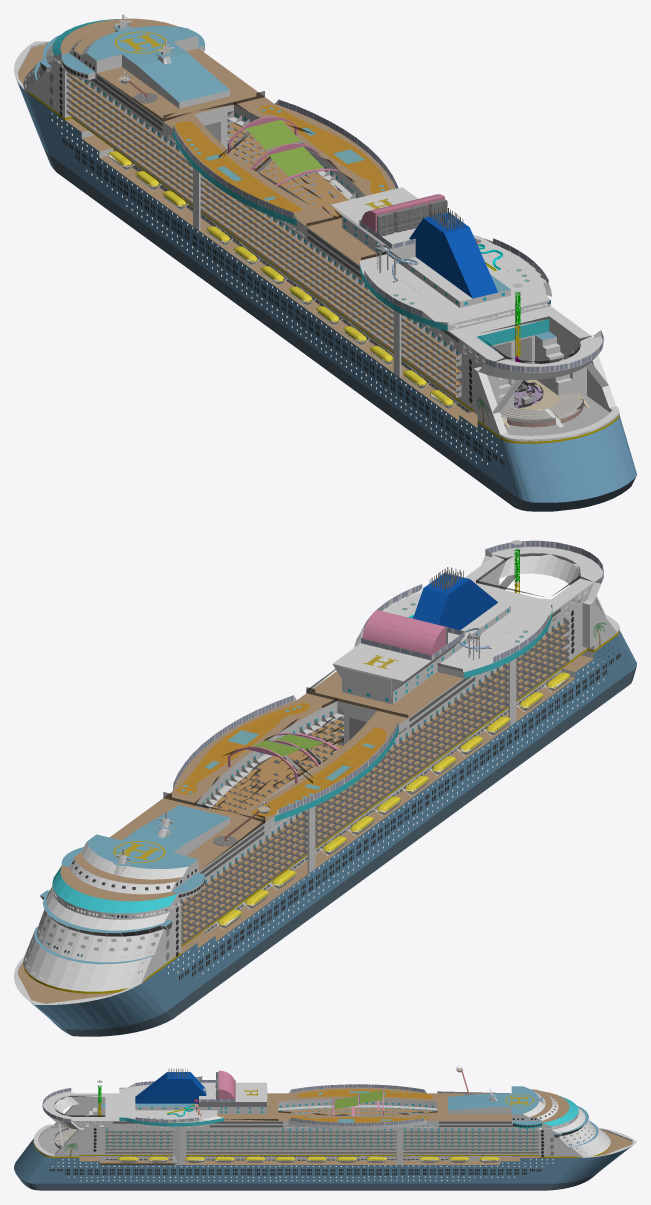
File: cruise_ship.glb
3 views of the same model, one above another, from view 1: azimuth 30°, elevation 25°; view 2: azimuth 150°, elevation 25°; view 3: azimuth 270°, elevation 25° (orthographic). The views are drawn at different scales.
Visible parts, largest first — view 1: hull7, hull3, hull6, hull5, hull2, hull1, hull4, glass, hull0; view 2: hull5, hull3, hull4, hull0, hull1, hull2, hull6, glass, hull7; view 3: hull5, hull3, hull4, hull2, hull6, glass, hull1, hull7, hull0.
Part boxes in pixels (x1,y1,x2,y2): hull7: (444, 312, 636, 511); hull3: (49, 107, 514, 495); hull6: (316, 219, 578, 494); hull5: (63, 139, 535, 506); hull2: (51, 49, 309, 250); hull1: (35, 14, 219, 209); hull4: (101, 139, 481, 470); glass: (66, 23, 592, 422); hull0: (14, 18, 138, 162); hull5: (180, 568, 633, 1013); hull3: (90, 672, 629, 1018); hull4: (200, 644, 582, 936); hull0: (14, 878, 174, 1036); hull1: (40, 811, 260, 1024); hull2: (109, 673, 482, 974); hull6: (362, 540, 629, 792); glass: (28, 553, 592, 988); hull7: (465, 540, 636, 718); hull5: (35, 1068, 546, 1190); hull3: (44, 1084, 555, 1190); hull4: (65, 1082, 444, 1183); hull2: (91, 1065, 553, 1181); hull6: (42, 1069, 267, 1183); glass: (54, 1065, 604, 1164); hull1: (442, 1086, 566, 1190); hull7: (14, 1088, 113, 1190); hull0: (544, 1096, 636, 1189).
Bounding box in the file's own units: 66.57 × 80.72 × 439.
